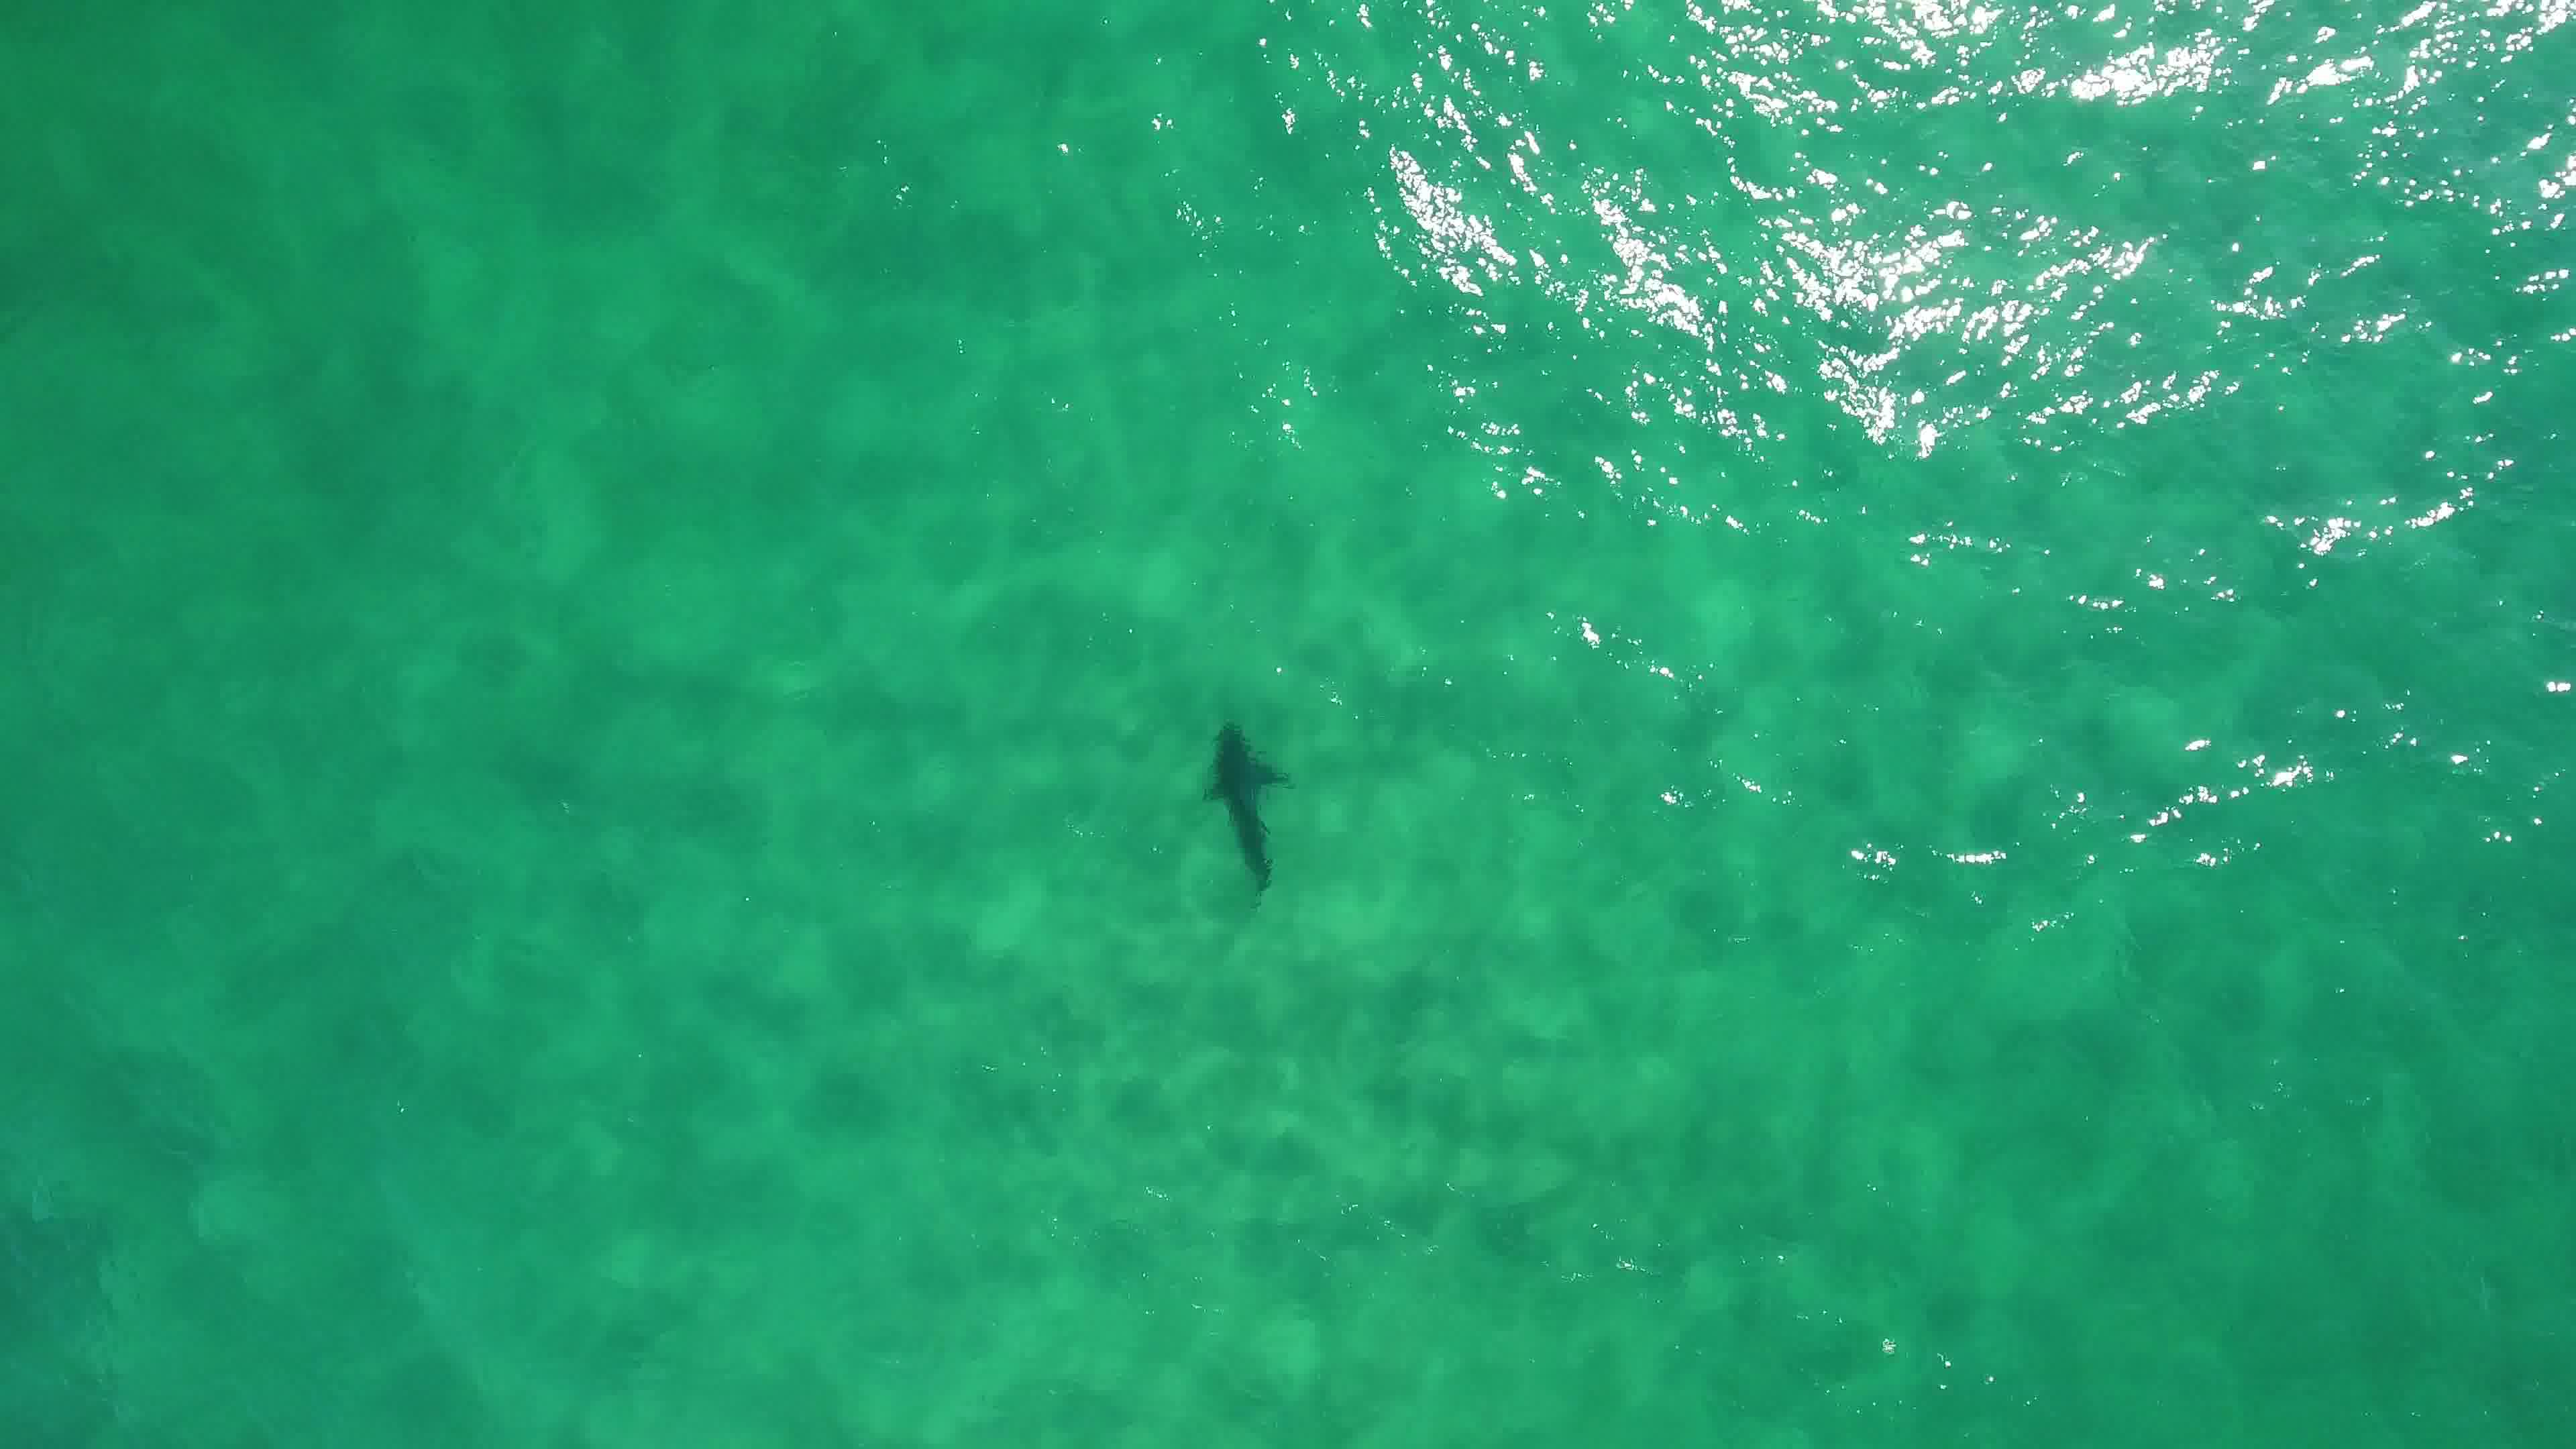shark: (1191, 715, 1297, 897)
